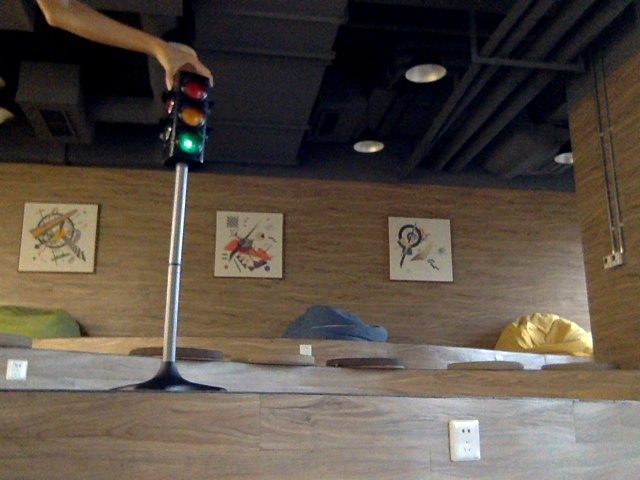green: (177, 77, 205, 162)
